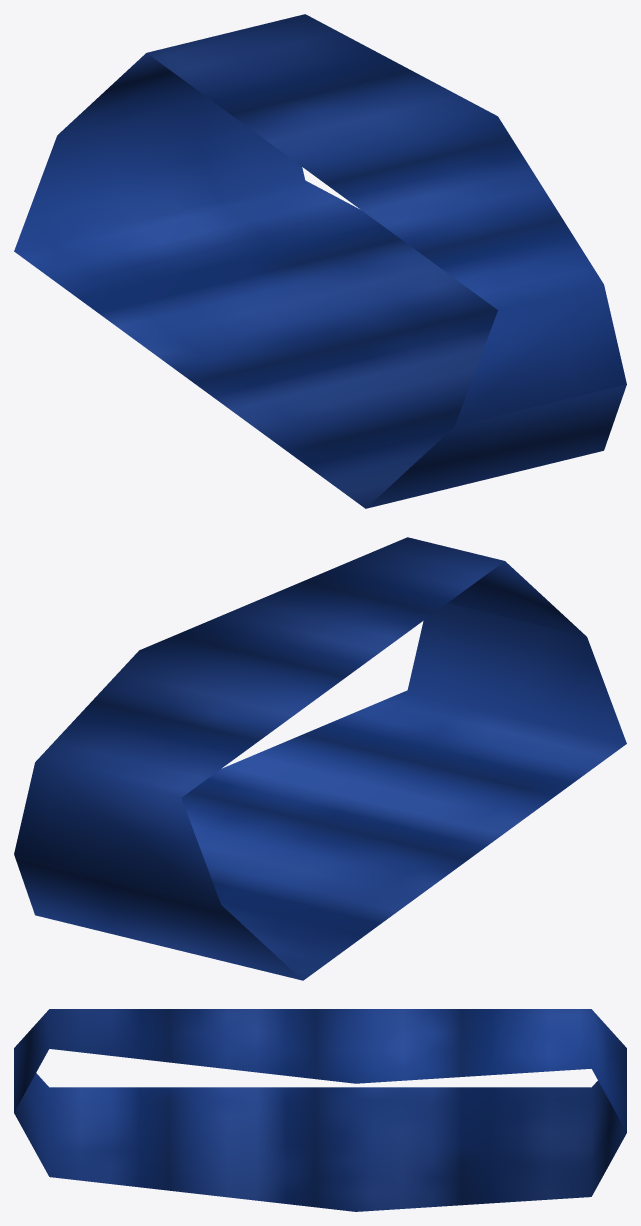
File: batch_0047.obj
3 renders of one model, top to bottom at view 1: azimuth 30°, elevation 25°; view 2: azimuth 150°, elevation 25°; view 3: azimuth 270°, elevation 25°, orthographic. The views are drawn at different scales.
Visible parts, largest first — view 1: batch_0047; view 2: batch_0047; view 3: batch_0047.
Boxes of the visible parts, left/top/right/bottom form: batch_0047: left=14, top=14, right=626, bottom=508; batch_0047: left=14, top=537, right=626, bottom=980; batch_0047: left=14, top=1009, right=626, bottom=1211.
Size of the model in its own units: 6.56 by 3.15 by 13.65.
Materials: 1 (1 with a texture image).
